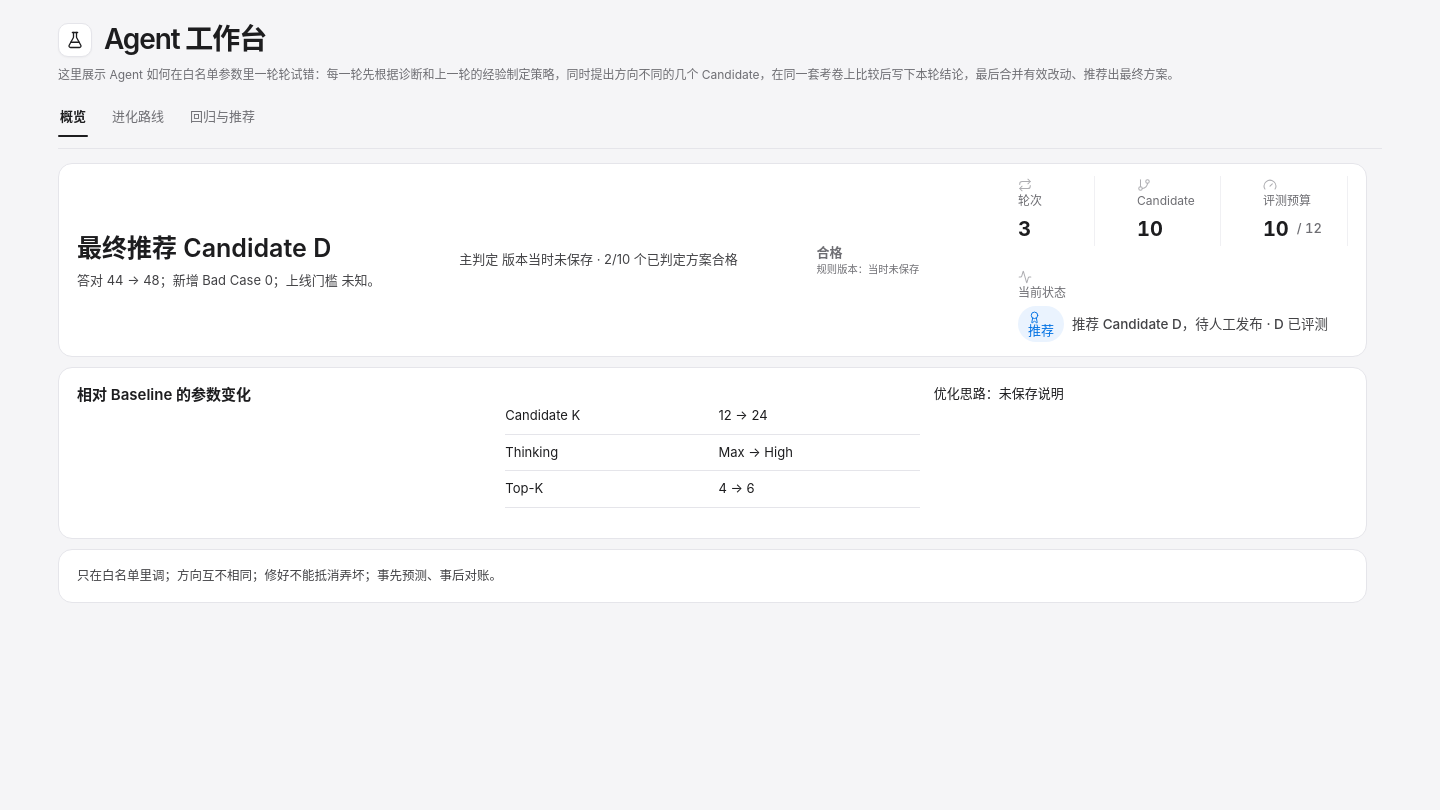
Scenario: compares the selected D with the saved Winner, highlights the faster Winner and opens alternative details
Later steps or results of the test are not shown.
Click the button "回归与推荐" at (222, 116), box 188,96 -> 257,136
(page scrolled)
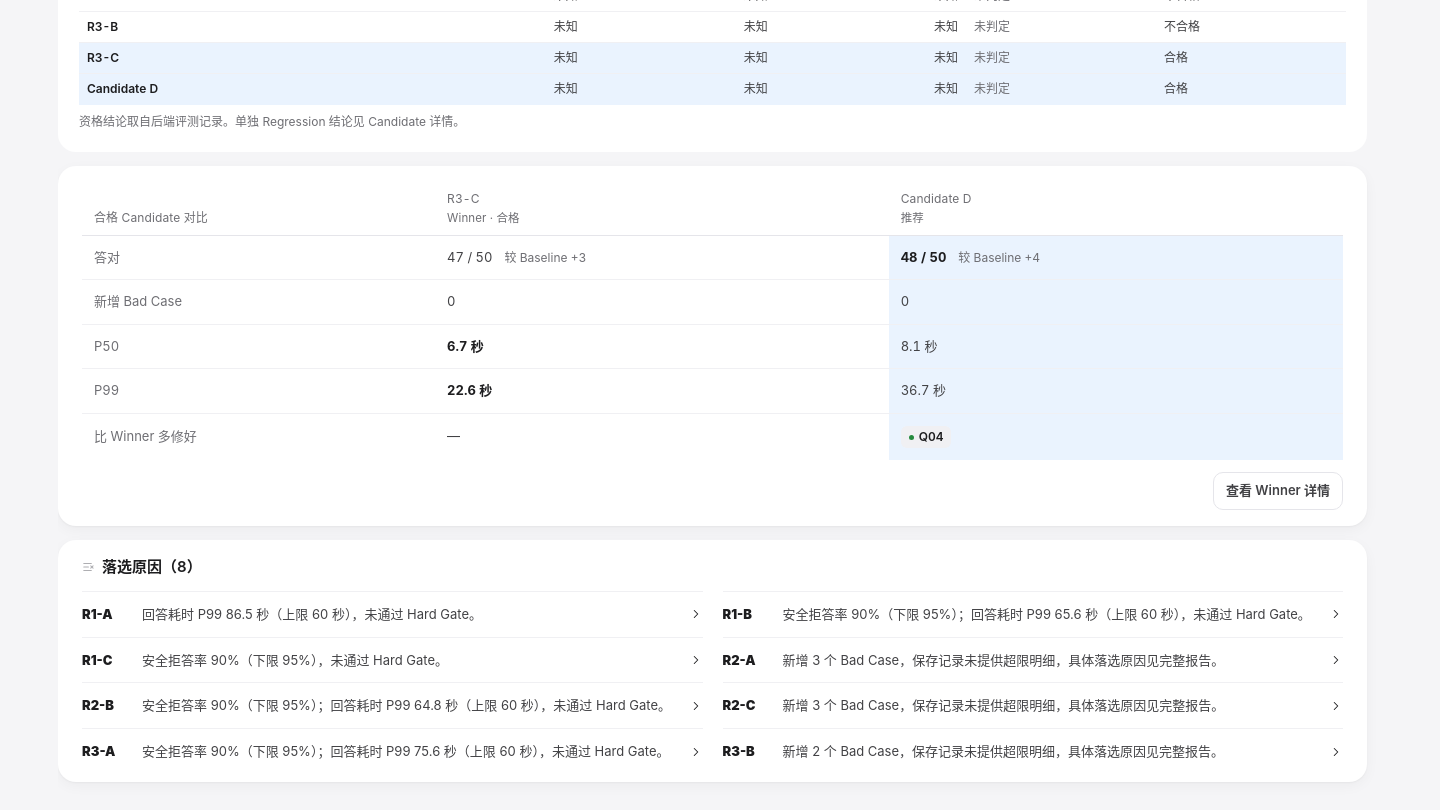
Click the button "R1-A 回答耗时 P99 86.5 秒（上限 60 秒），未通过 Hard Gate。" at (392, 614), box 82,591 -> 702,636
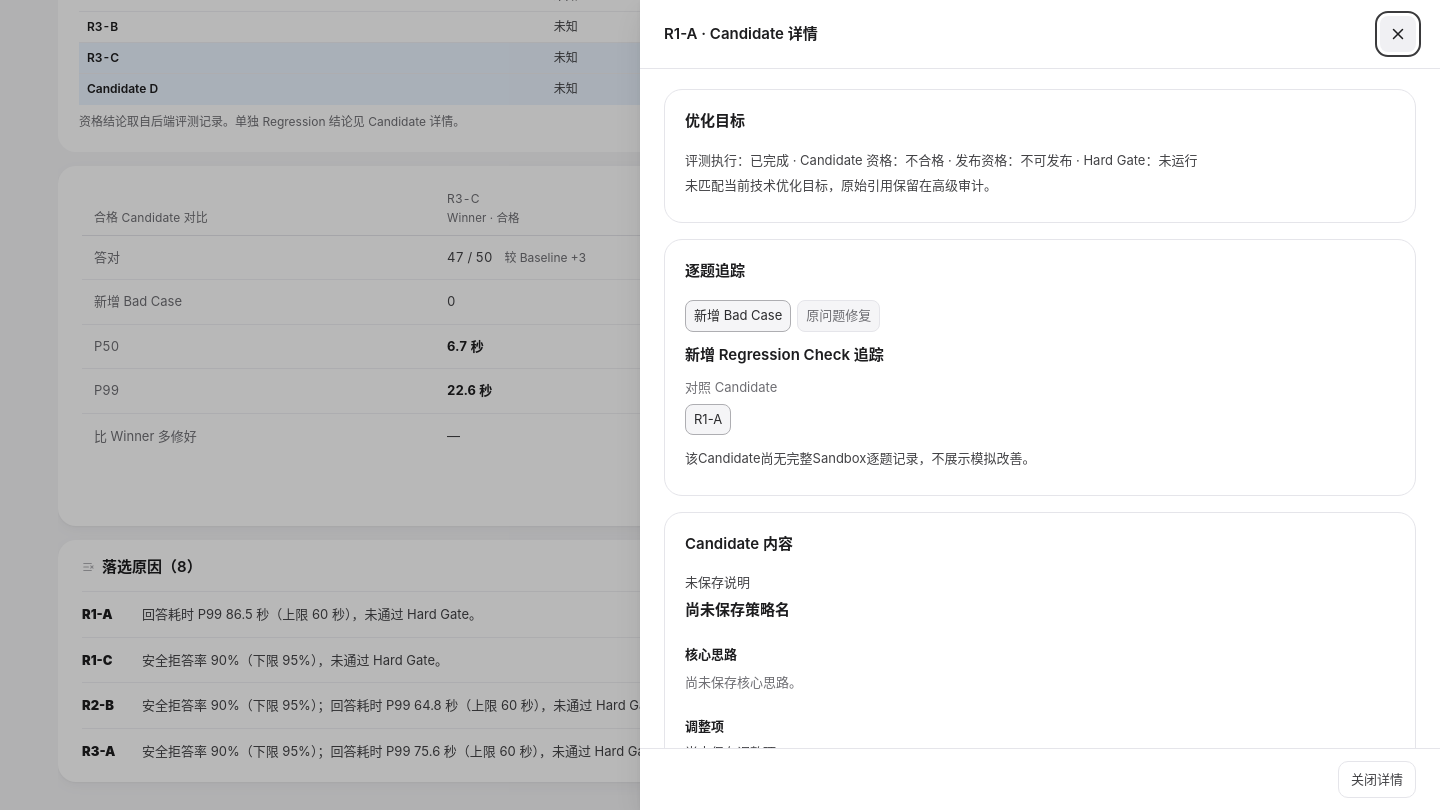
expect the dialog shows "Candidate 详情": met, box 664,24 -> 818,43
